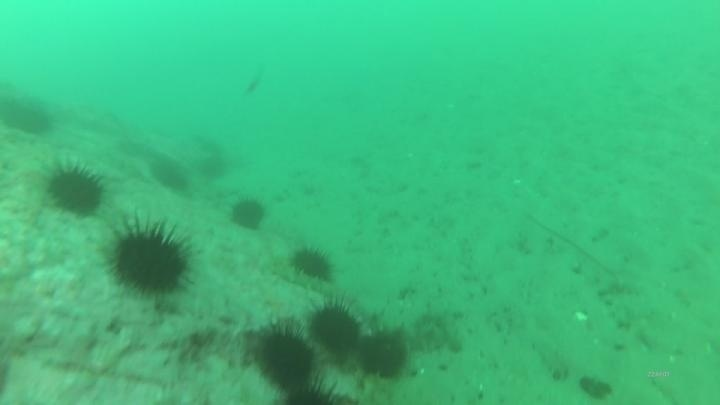echinus: (105, 218, 195, 299), (250, 321, 319, 392), (43, 159, 108, 219), (307, 298, 365, 357), (354, 328, 411, 382), (2, 94, 55, 139), (288, 244, 337, 284), (278, 377, 349, 404), (149, 156, 191, 195), (228, 196, 268, 233), (197, 152, 230, 182)
